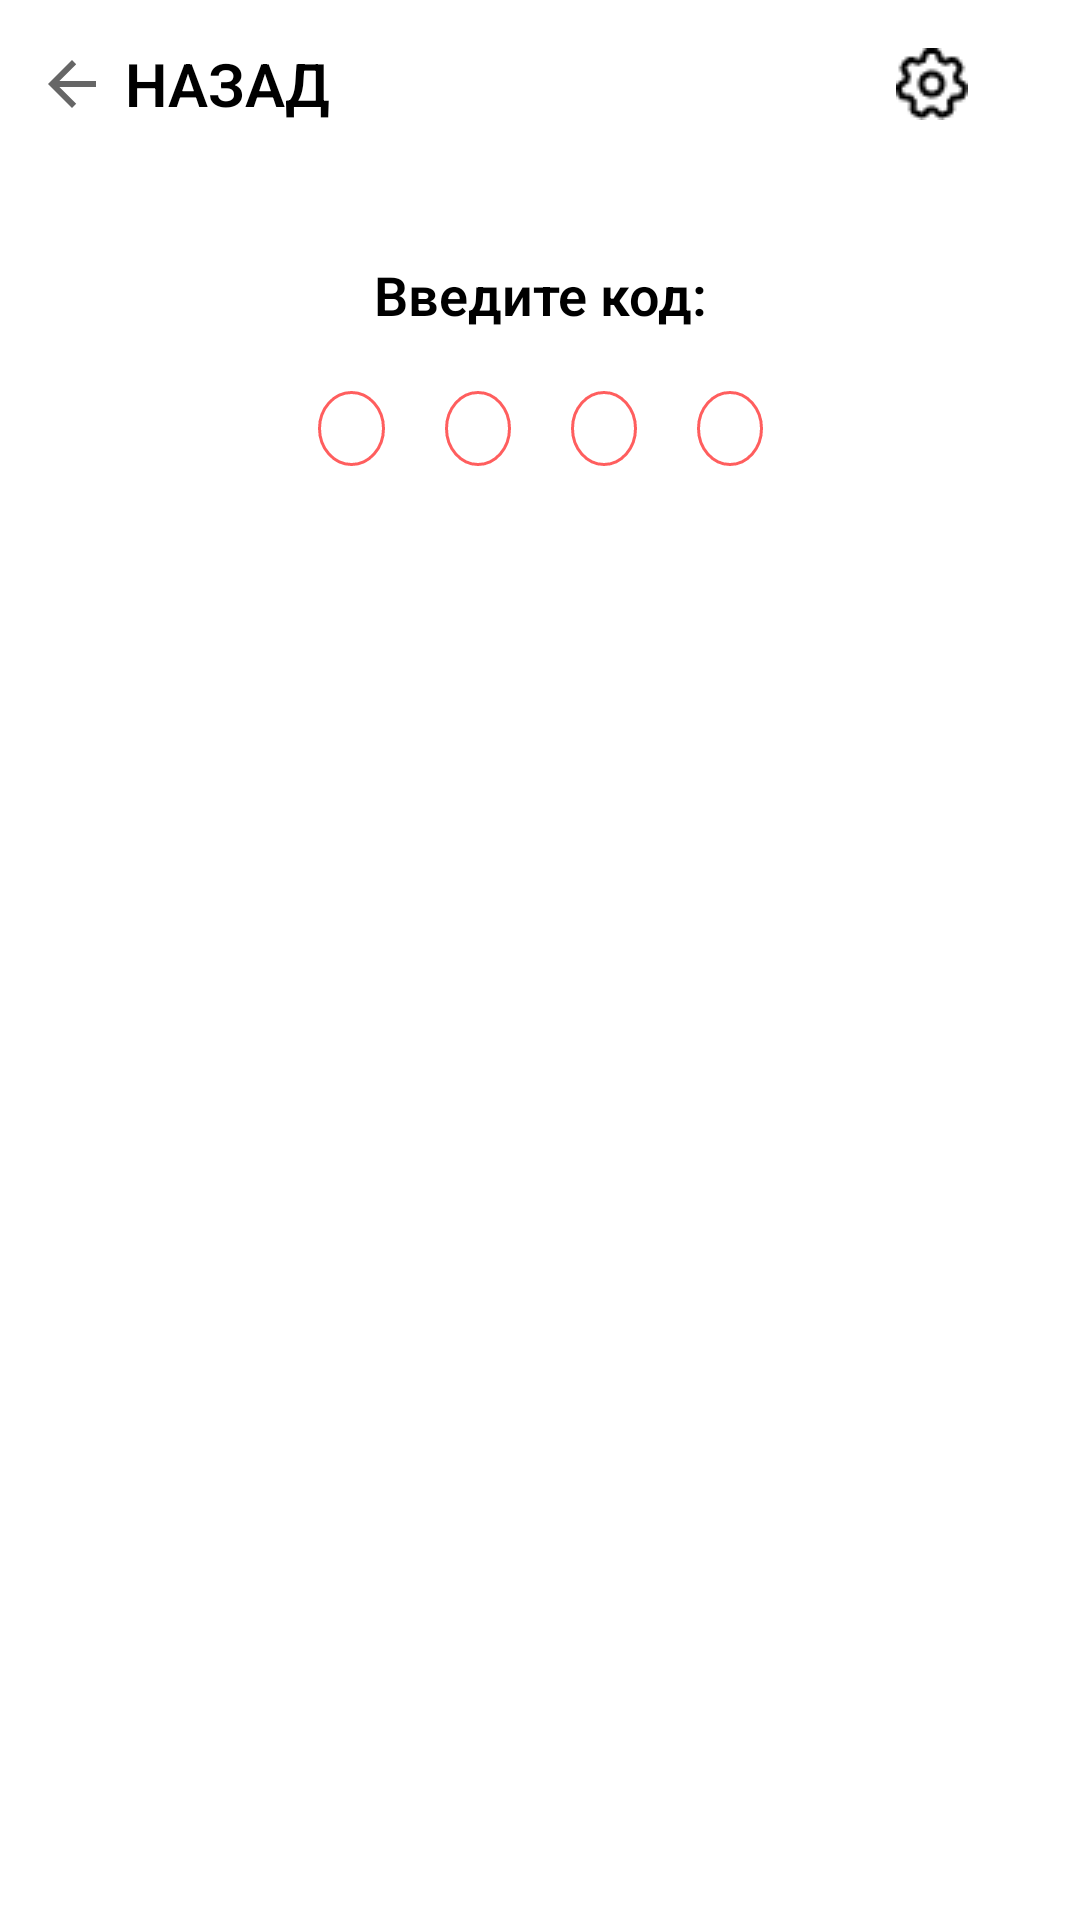

Named icons in this screenshot (1080*1920) and their bounding boxes, Rect(x1, y1, x2, y2):
setting: Rect(896, 48, 968, 120)
